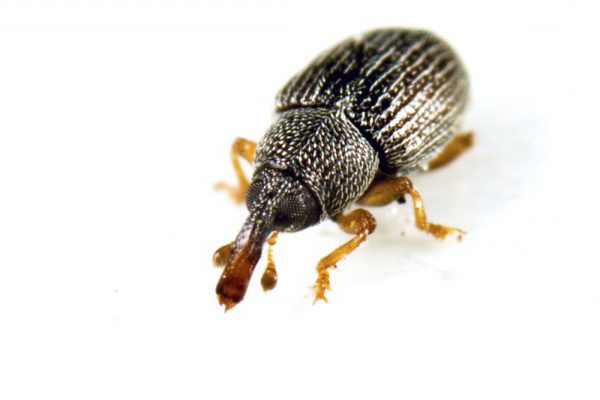dolgonosik: (210, 25, 479, 310)
